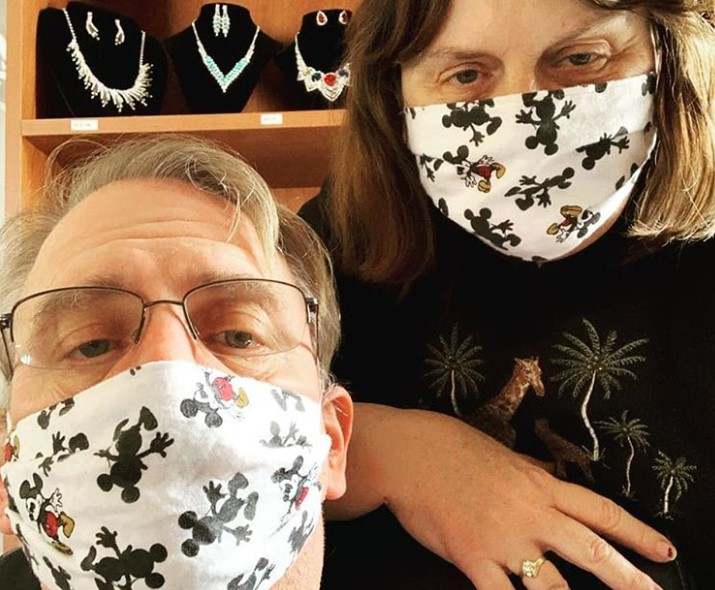face_with_mask: (3, 152, 360, 590), (379, 0, 696, 286)
